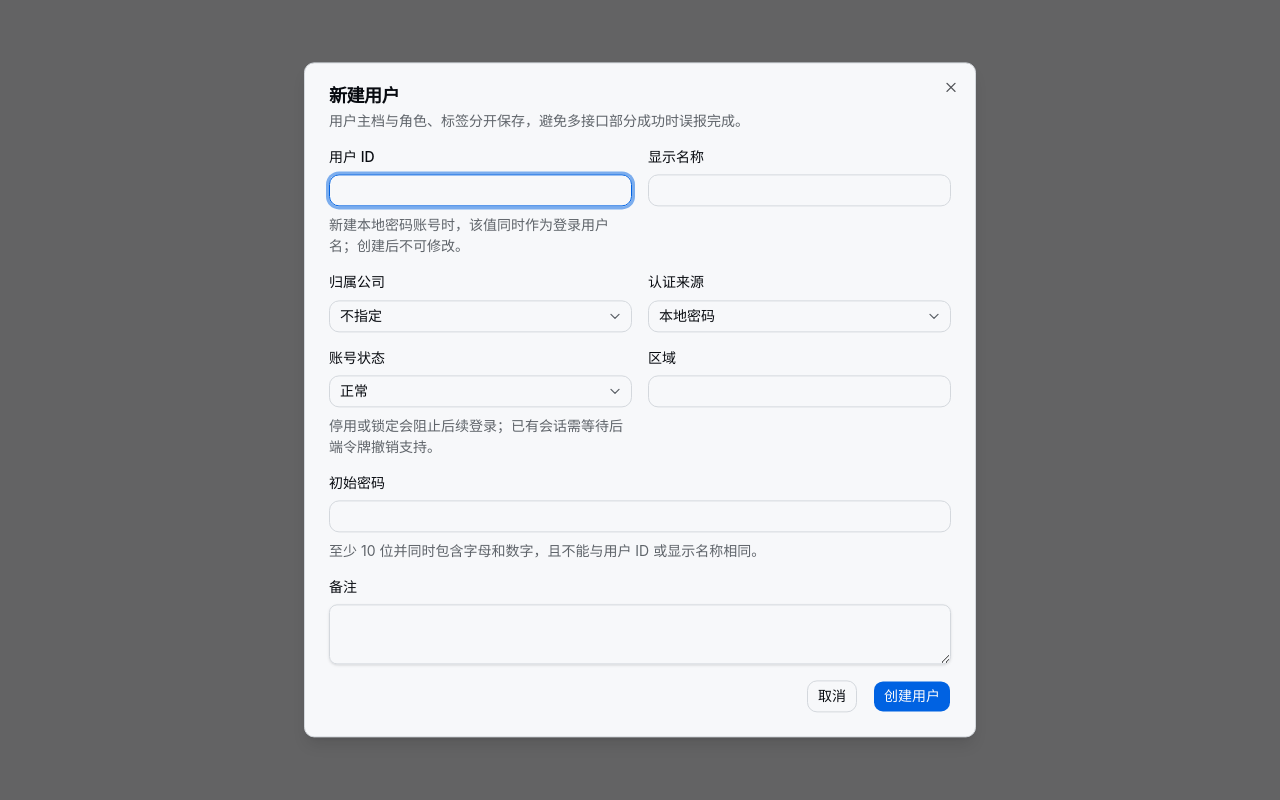
it: UserFormDialog › 新建普通用户时必须选择公司
The width and height of the screenshot is (1280, 800).
Check: the password field labelled "初始密码" is shown, box [329,500,951,532]
Type "new-user" into the field labelled "用户 ID" at (480, 191), box [329,175,632,207]
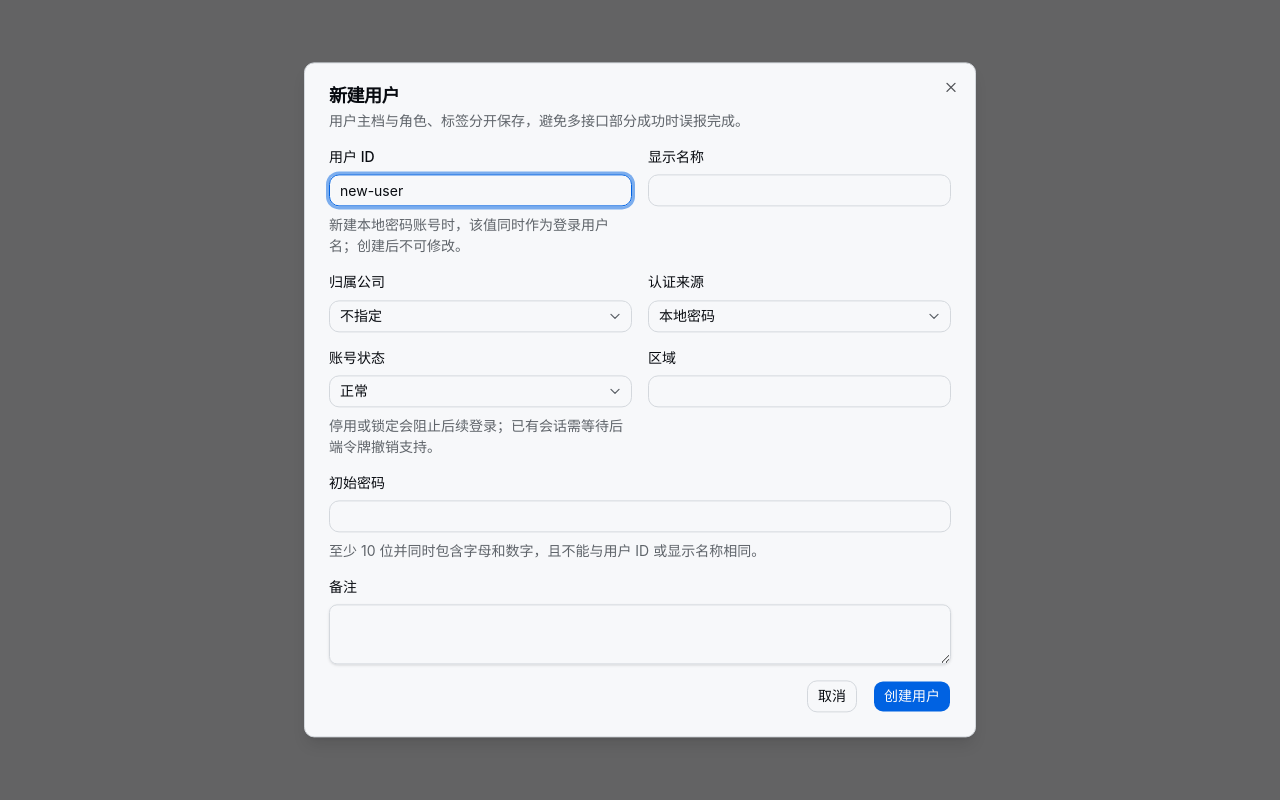
Type "New User" into the field labelled "显示名称" at (800, 191), box [648,175,951,207]
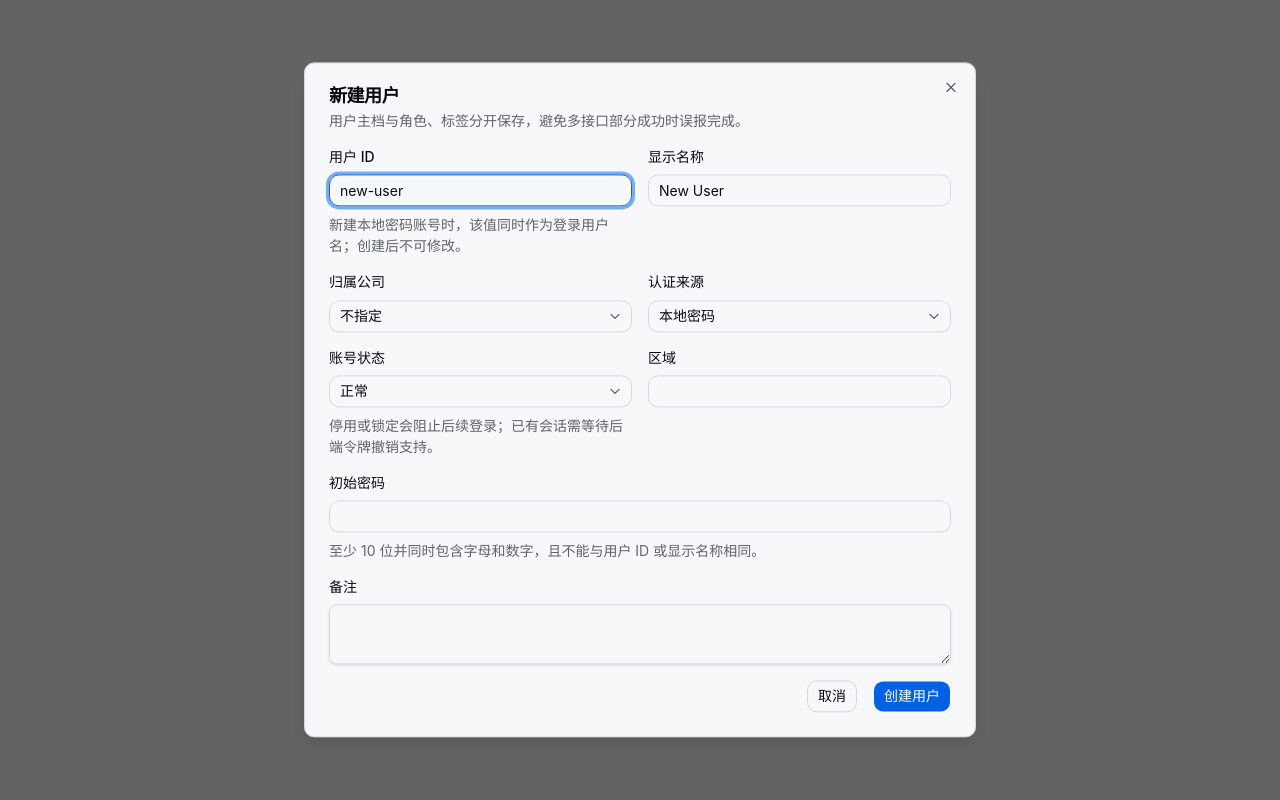
Click the button "创建用户" at (912, 697), box [873,681,951,713]
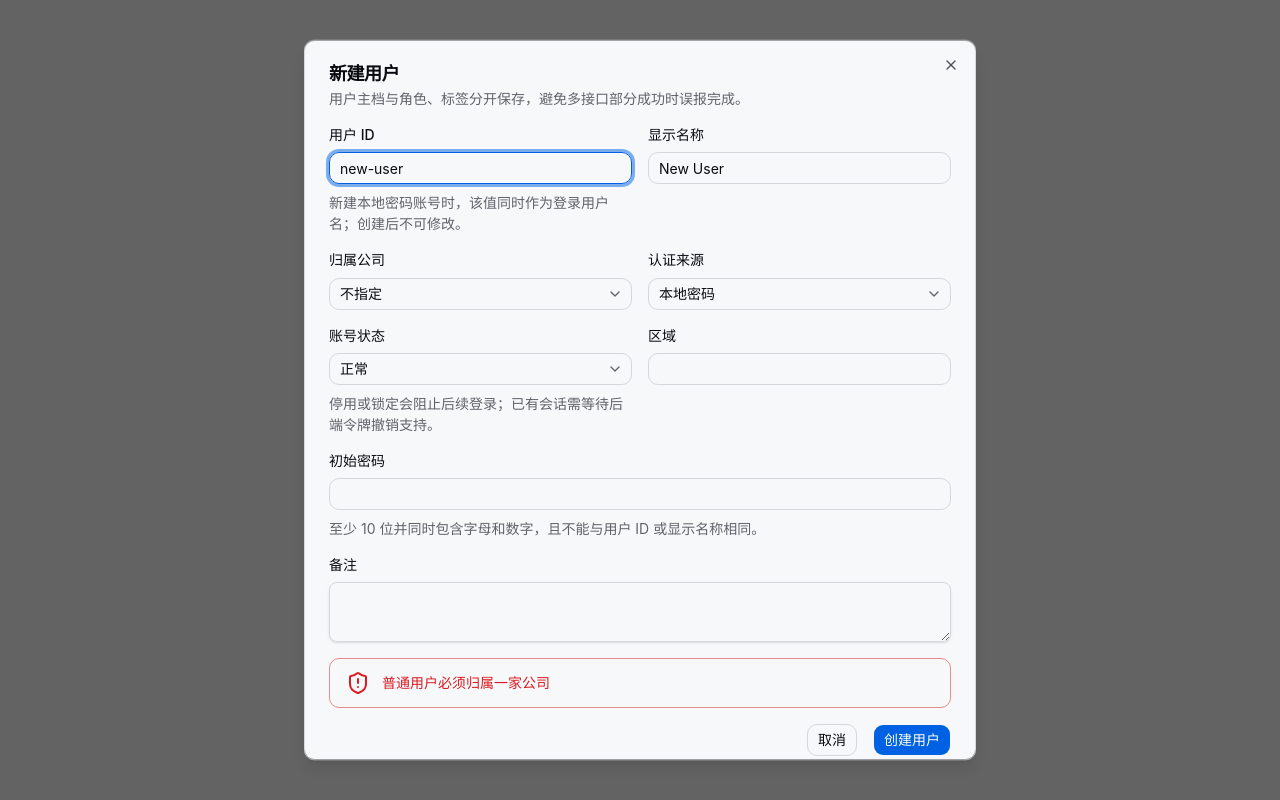
Check: the text "普通用户必须归属一家公司" is shown, box [382,673,550,693]
